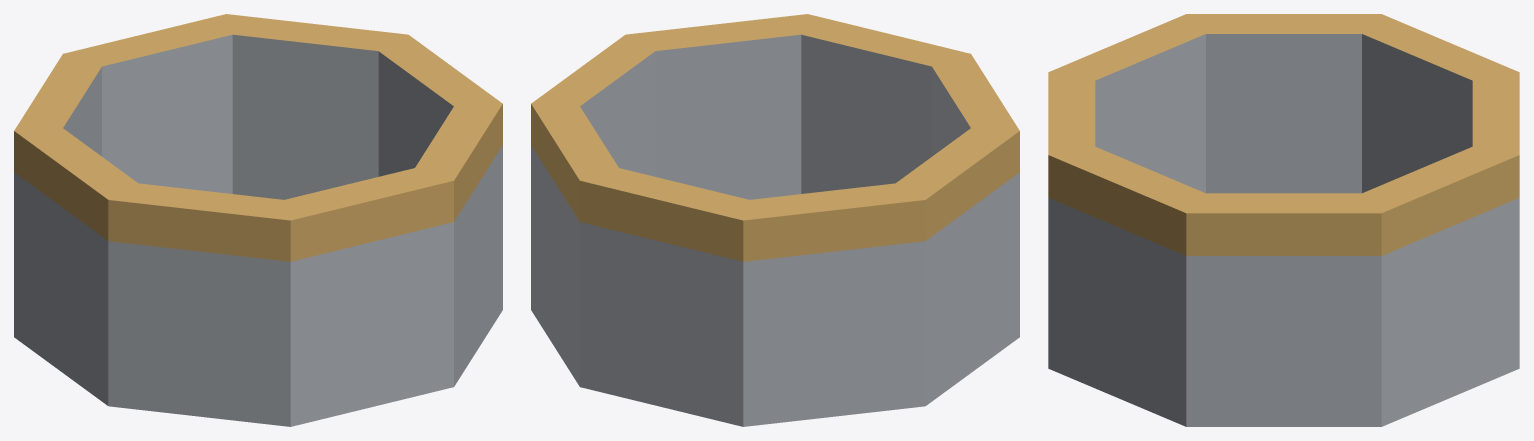
The model's file is rocket_fuelA.glb.
3 renders of one model, left to right at view 1: azimuth 30°, elevation 25°; view 2: azimuth 150°, elevation 25°; view 3: azimuth 270°, elevation 25°, orthographic. The views are drawn at different scales.
Visible parts, largest first — view 1: rocket_fuelA; view 2: rocket_fuelA; view 3: rocket_fuelA.
Boxes of the visible parts, x1,y1,x2,y2 form: rocket_fuelA: (14,14,502,426); rocket_fuelA: (531,14,1019,426); rocket_fuelA: (1048,14,1519,426).
Size of the model in its own units: 2 by 1 by 2.
